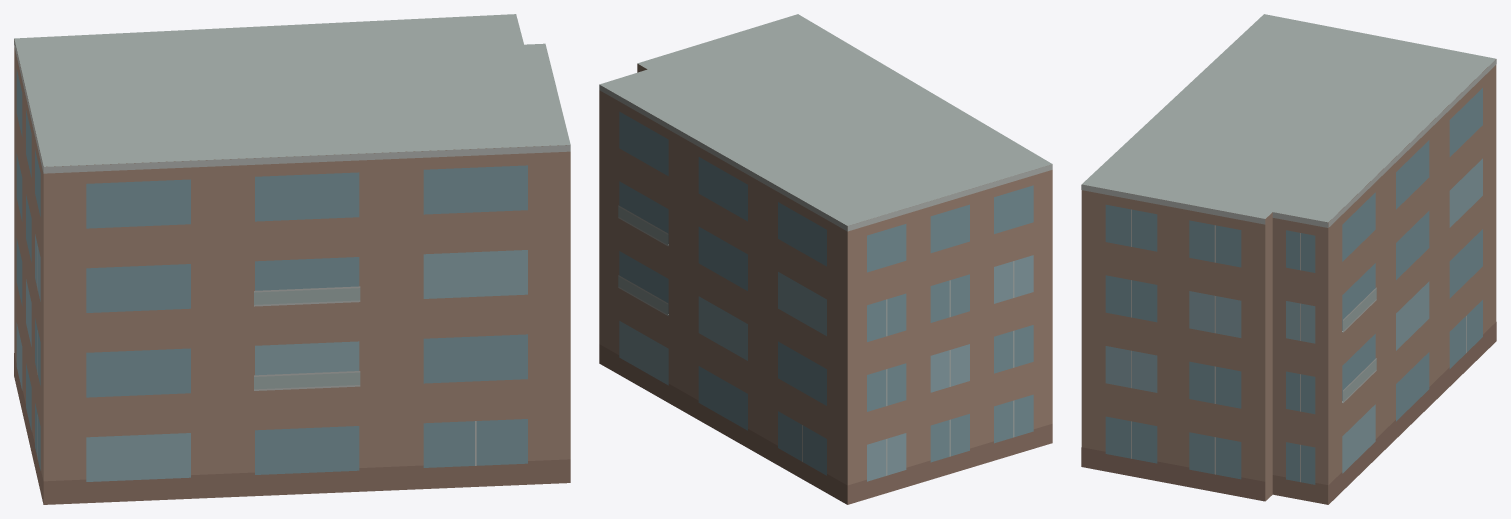
Rendered from survey-upis-32729221.glb.
3 renders of one model, left to right at view 1: azimuth 30°, elevation 25°; view 2: azimuth 150°, elevation 25°; view 3: azimuth 270°, elevation 25°, orthographic. The views are drawn at different scales.
Visible parts, largest first — view 1: survey-upis-32729221.tmp; view 2: survey-upis-32729221.tmp; view 3: survey-upis-32729221.tmp.
Part boxes in pixels (bbox=[...]): survey-upis-32729221.tmp: bbox=[14, 14, 570, 504]; survey-upis-32729221.tmp: bbox=[599, 14, 1052, 504]; survey-upis-32729221.tmp: bbox=[1081, 14, 1496, 504].
Bounding box in the file's own units: 19.31 × 12.2 × 16.25.
